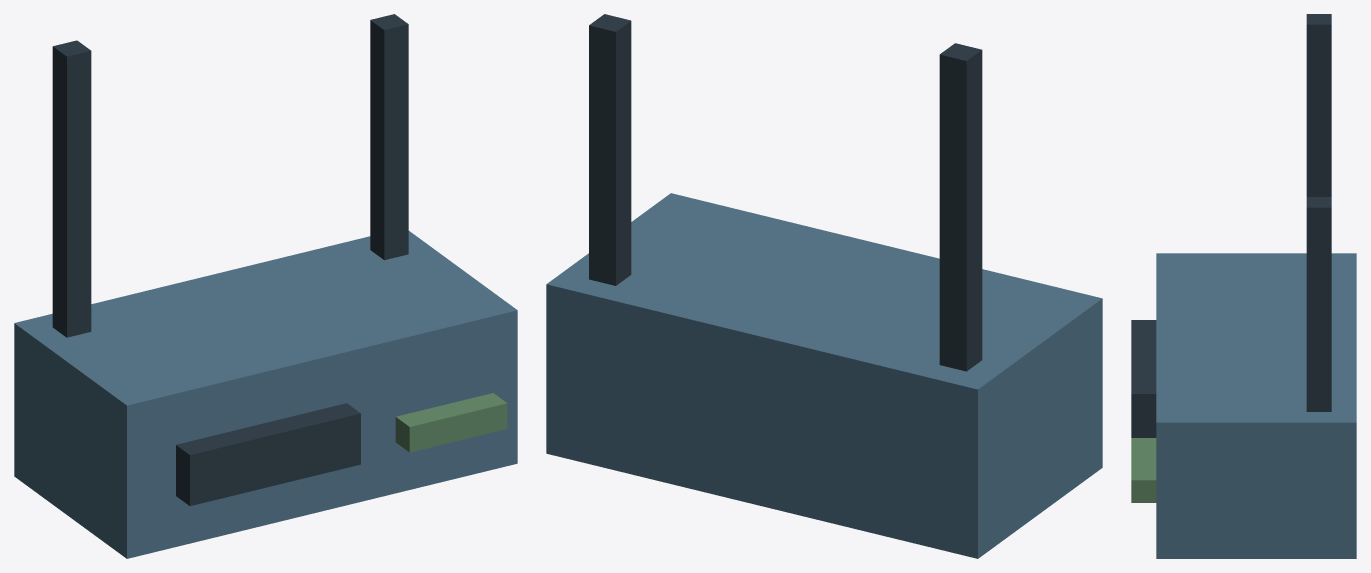
Rendered from security-16.glb.
3 renders of one model, left to right at view 1: azimuth 30°, elevation 25°; view 2: azimuth 150°, elevation 25°; view 3: azimuth 270°, elevation 25°, orthographic. The views are drawn at different scales.
Parts seen in each view (by area): view 1: Packet router; view 2: Packet router; view 3: Packet router.
Part boxes in pixels (x1=…): Packet router: x1=14, y1=14, x2=517, y2=558; Packet router: x1=546, y1=14, x2=1102, y2=558; Packet router: x1=1131, y1=14, x2=1356, y2=558.
Bounding box in the file's own units: 1.28 × 1.36 × 0.72.
